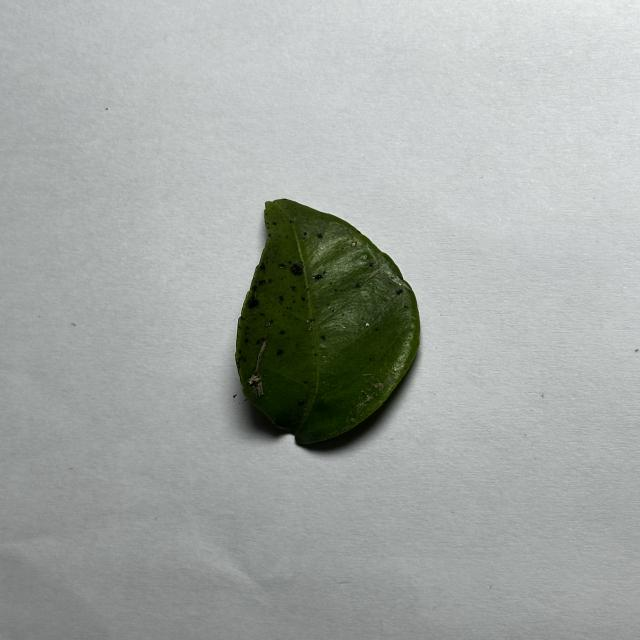sooty_mold: (236, 199, 419, 444)
